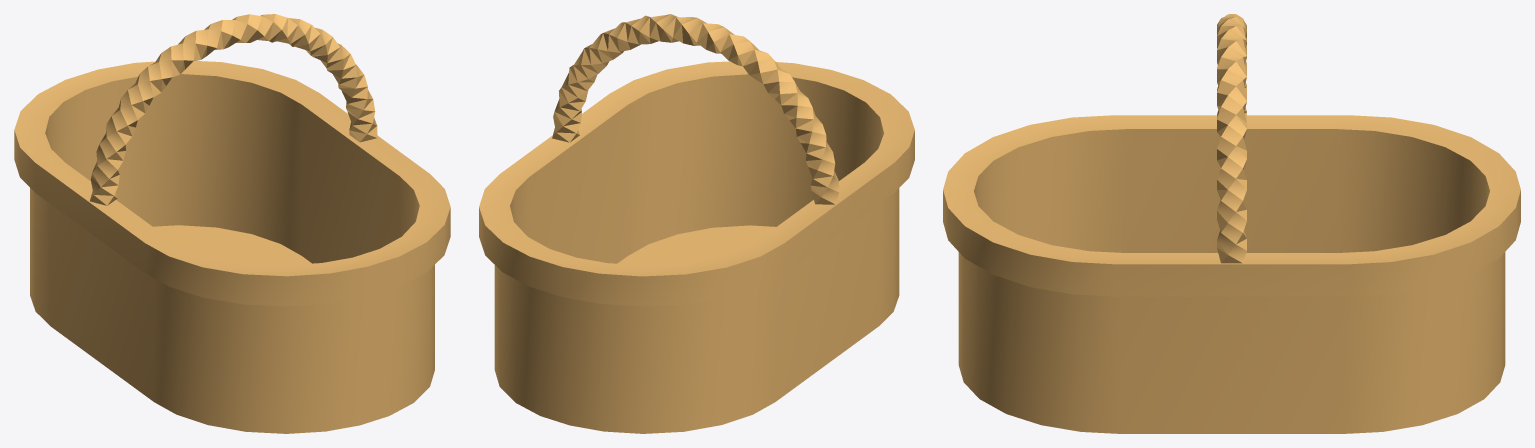
Rendered from Basket.fbx.
3 renders of one model, left to right at view 1: azimuth 30°, elevation 25°; view 2: azimuth 150°, elevation 25°; view 3: azimuth 270°, elevation 25°, orthographic. The views are drawn at different scales.
Visible parts, largest first — view 1: Кошик; view 2: Кошик; view 3: Кошик.
Part boxes in pixels (x1=…): Кошик: x1=14, y1=14, x2=450, y2=433; Кошик: x1=479, y1=14, x2=914, y2=433; Кошик: x1=943, y1=14, x2=1520, y2=433.
Size of the model in its own units: 37.85 by 39.71 by 61.92.
